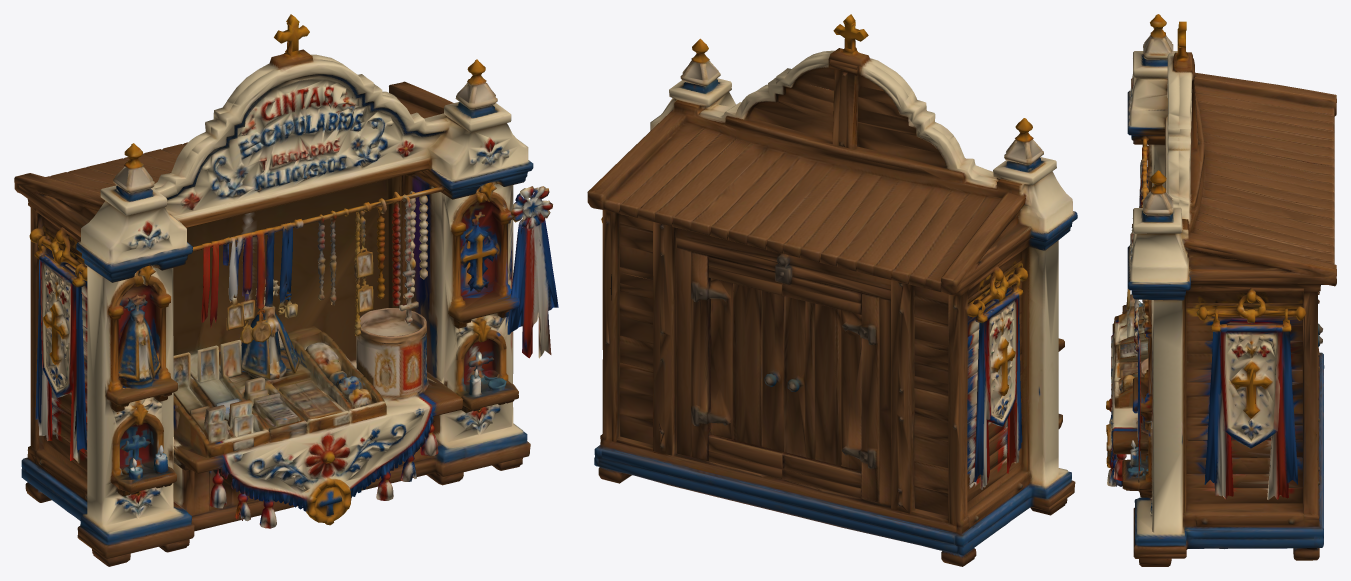
File: cintas_escapularios.glb
3 views of the same model, side by side, from view 1: azimuth 30°, elevation 25°; view 2: azimuth 150°, elevation 25°; view 3: azimuth 270°, elevation 25° (orthographic). The views are drawn at different scales.
Visible parts, largest first — view 1: cintas_escapularios; view 2: cintas_escapularios; view 3: cintas_escapularios.
Boxes of the visible parts, x1,y1,x2,y2 form: cintas_escapularios: (14,14,558,566); cintas_escapularios: (587,14,1077,566); cintas_escapularios: (1106,14,1336,566).
Size of what is drawn, in the model's own units: 2.26 by 2.3 by 1.06.
1 material, 1 textured.
